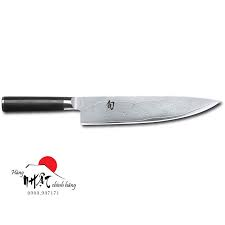knife: (1, 92, 219, 127)
